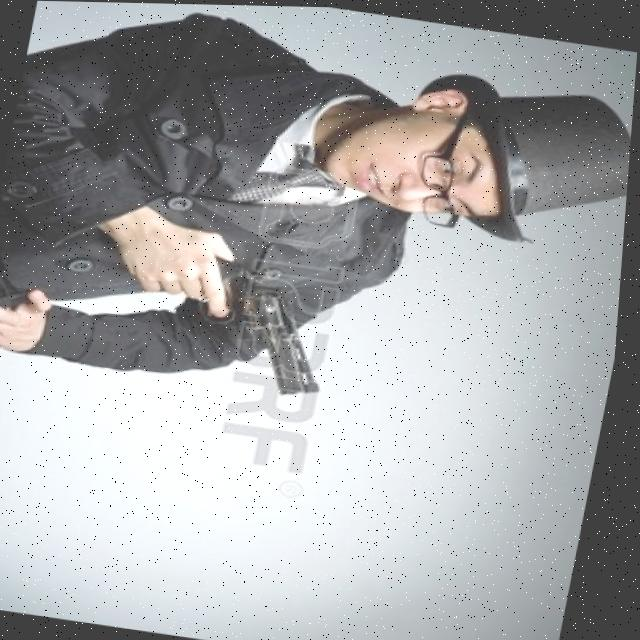pistol: (200, 256, 346, 398)
